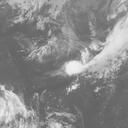cyclone: (63, 60, 88, 77)
